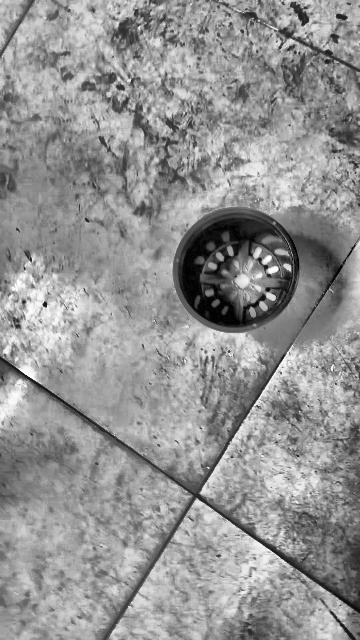pot: (173, 209, 300, 332)
